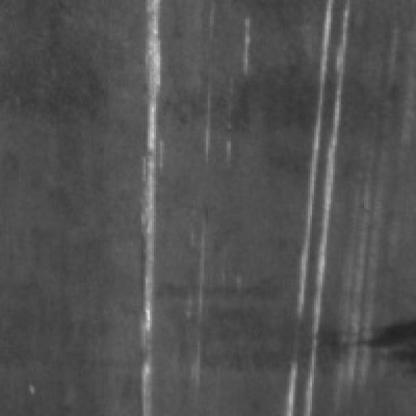inclusion: (314, 314, 410, 376)
scratches: (284, 0, 352, 406), (131, 0, 164, 410)
